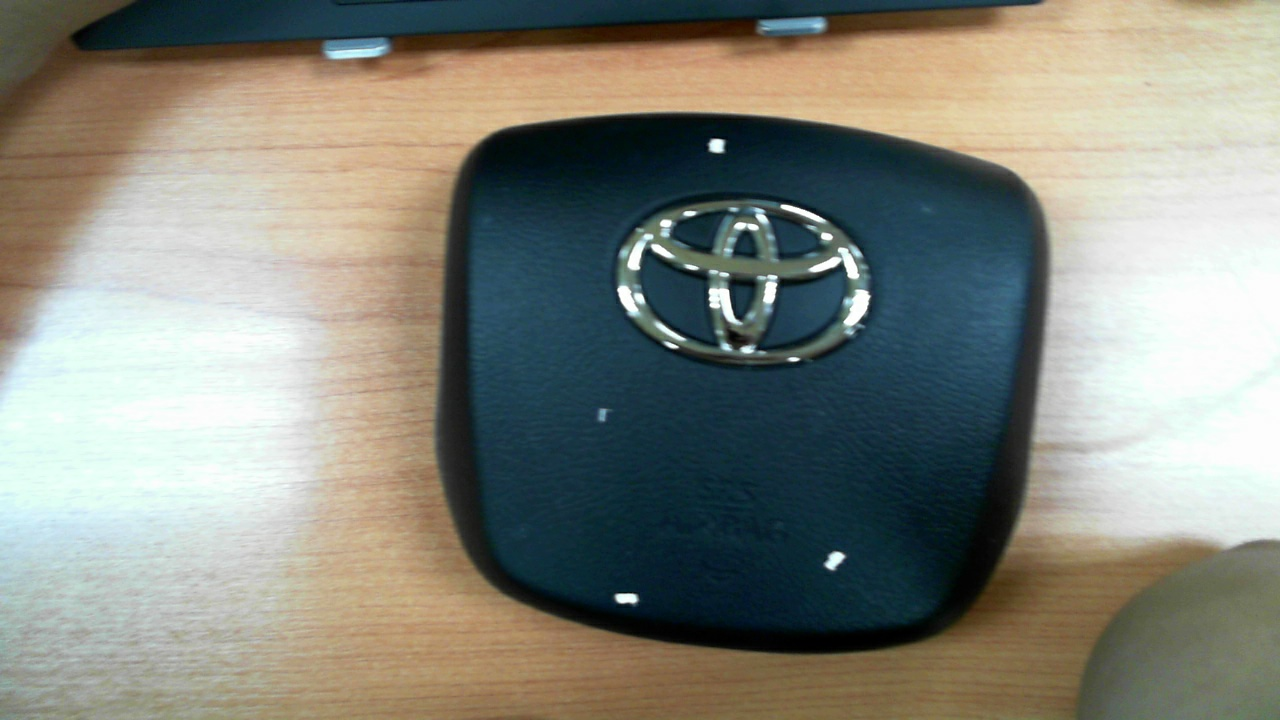Airbag: (436, 112, 1049, 653)
Mark: (824, 551, 846, 571), (708, 137, 726, 154), (614, 593, 639, 605), (597, 408, 608, 422)
